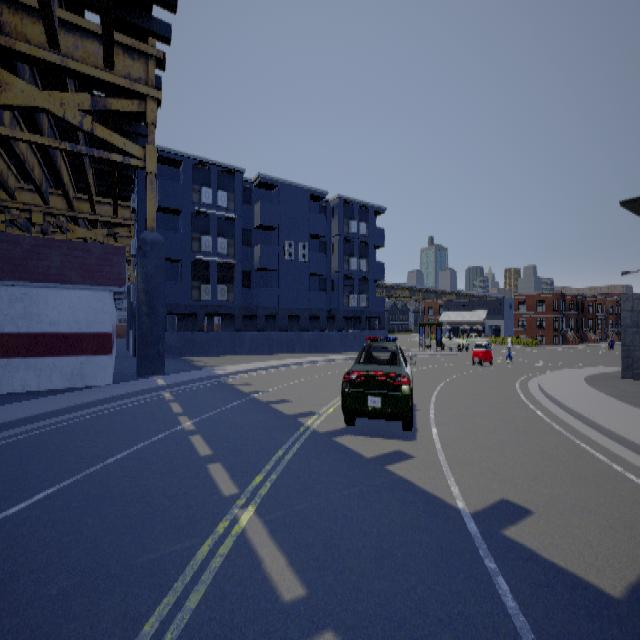bike: (502, 334, 515, 361)
vehicle: (340, 335, 415, 430), (437, 328, 469, 354), (472, 332, 492, 367)
